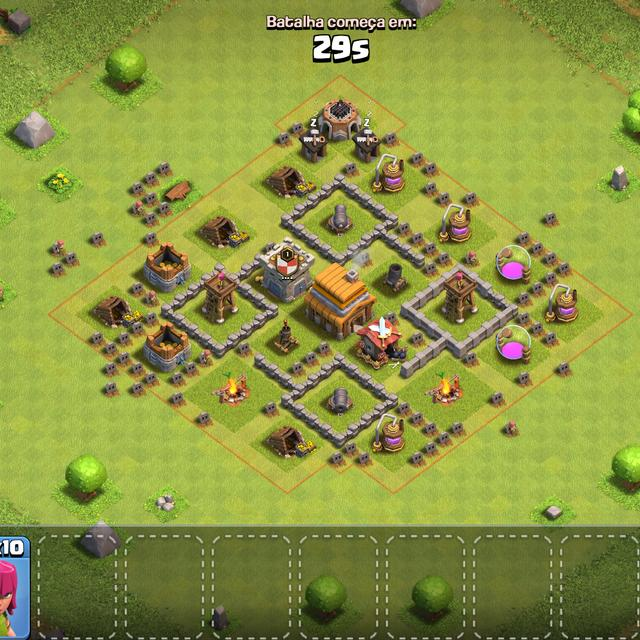Arqueira: (444, 270, 476, 324), (204, 273, 238, 323)
Canhao: (324, 202, 356, 238), (326, 387, 355, 414)
